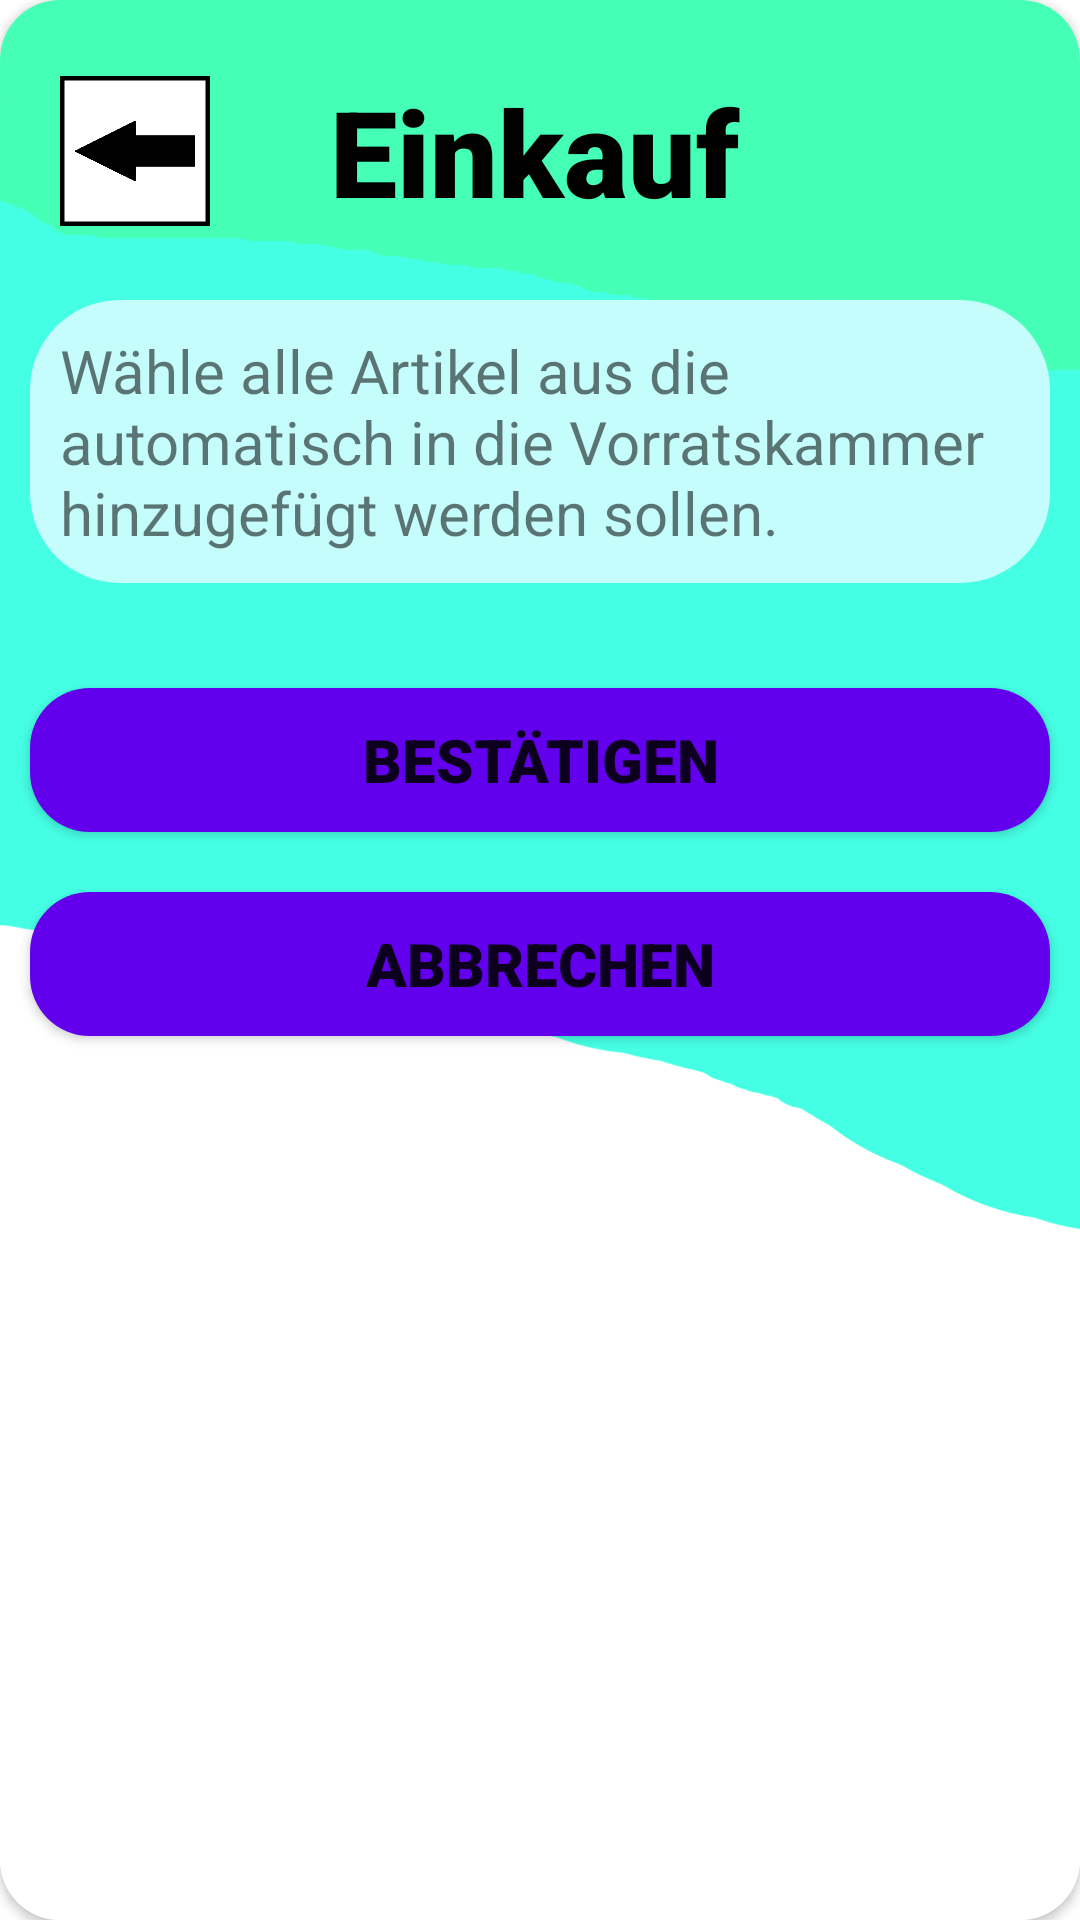

Icon click points for this 1080 × 1920 phone screenshot, format point (x, y):
zurueck: point (135, 151)
